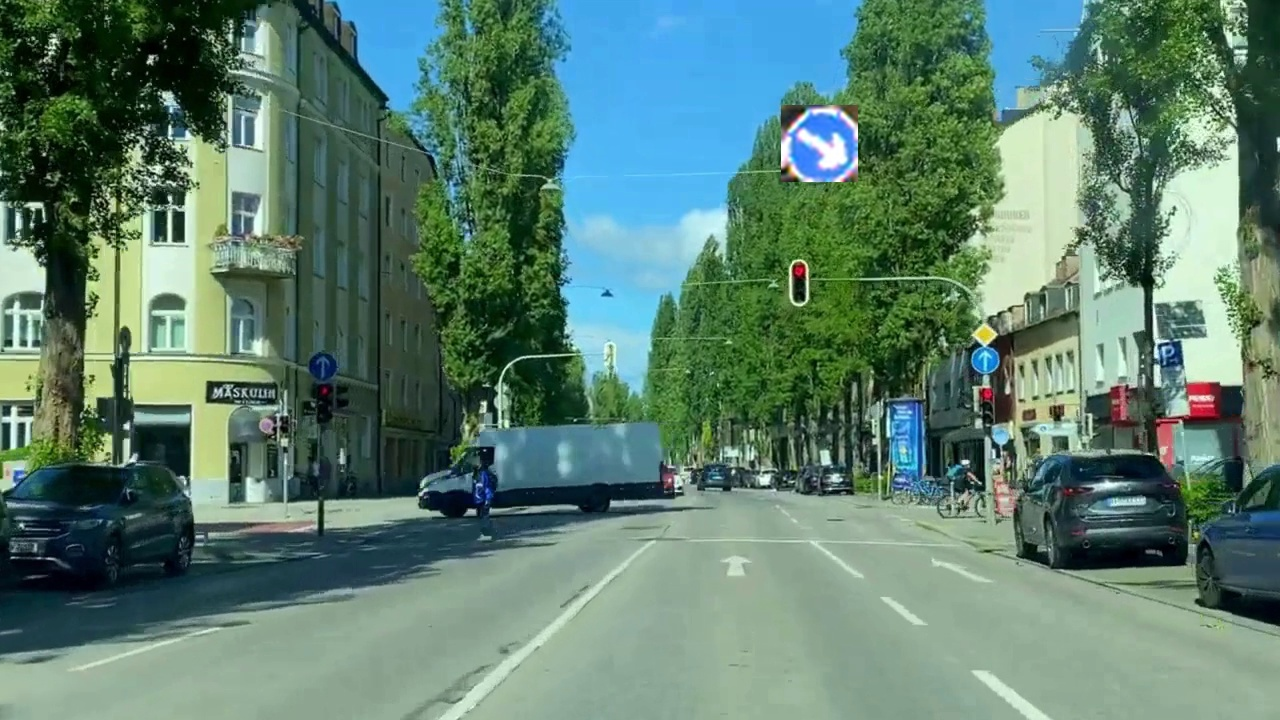Keep right: (781, 105, 858, 182)
